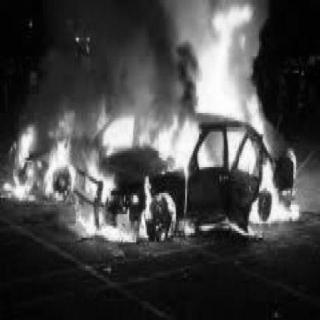Fire: (2, 0, 305, 244)
